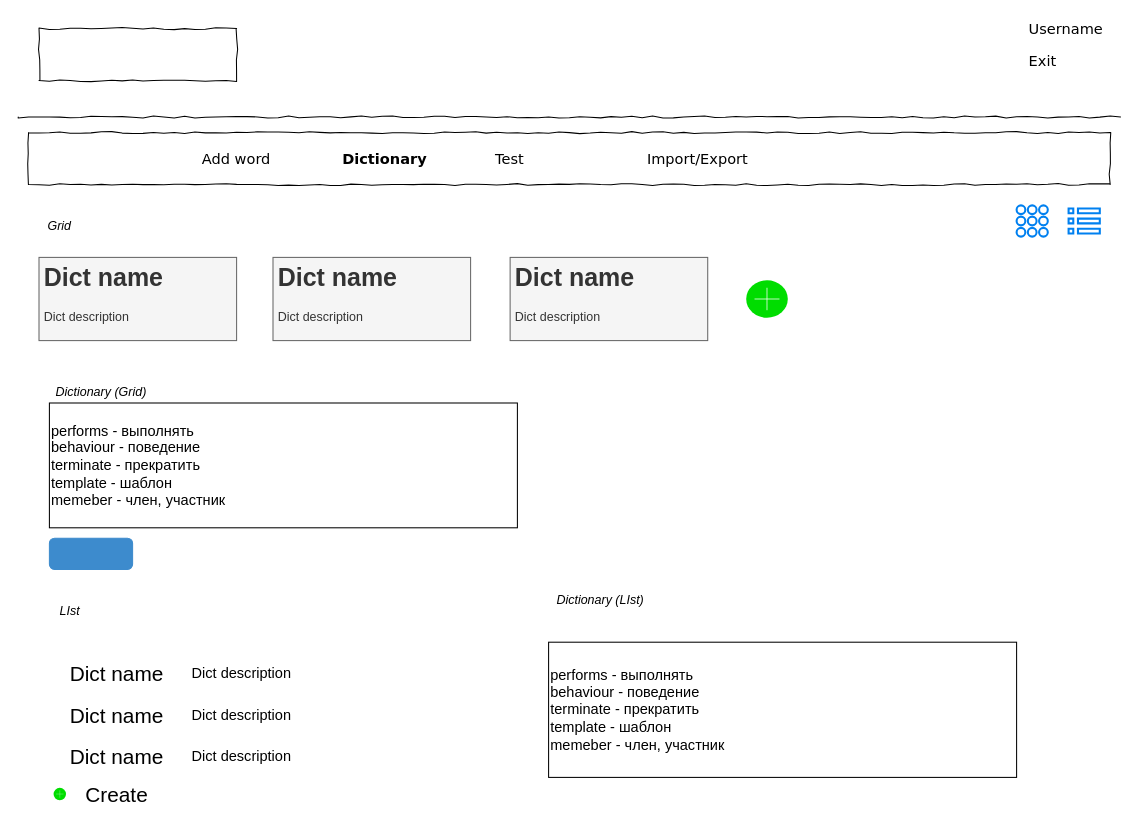
The diagram is 1139 pixels wide and 824 high, and some of its shapes have lost their labels. Each missing label, with the centre of its shape:
"LOGO" belongs at [137,54].
"Save" belongs at [90,553].
